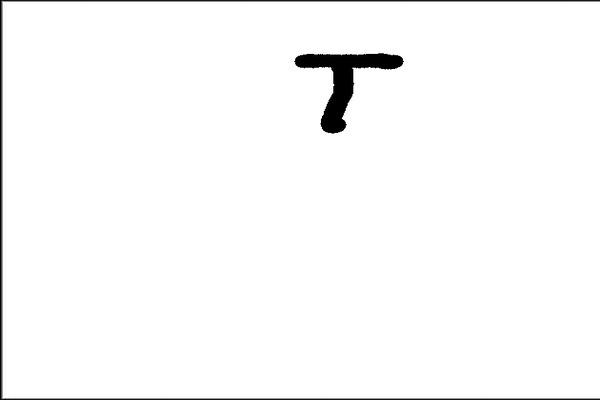T: (284, 46, 415, 136)
